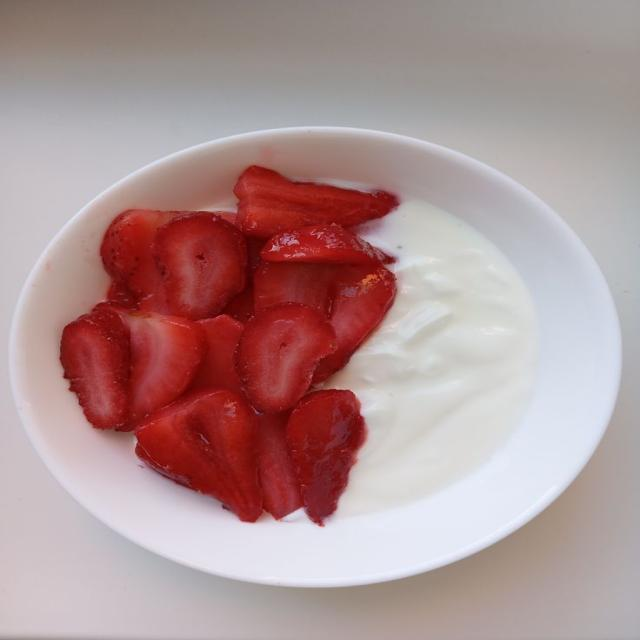strawberry sliced: (136, 390, 262, 521), (234, 166, 398, 237), (236, 303, 336, 412), (287, 390, 366, 526), (153, 213, 246, 319), (314, 266, 396, 383), (120, 310, 204, 423), (61, 305, 129, 430), (100, 209, 179, 298), (261, 225, 393, 265), (259, 412, 302, 519), (254, 261, 335, 314), (192, 315, 242, 392), (221, 282, 254, 323), (105, 282, 138, 309), (246, 236, 265, 276), (215, 211, 238, 225)
